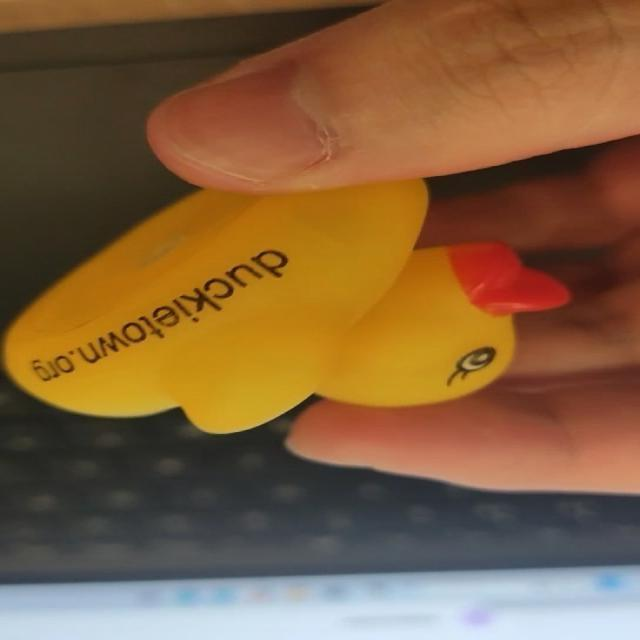rubber-duck: (3, 179, 566, 431)
